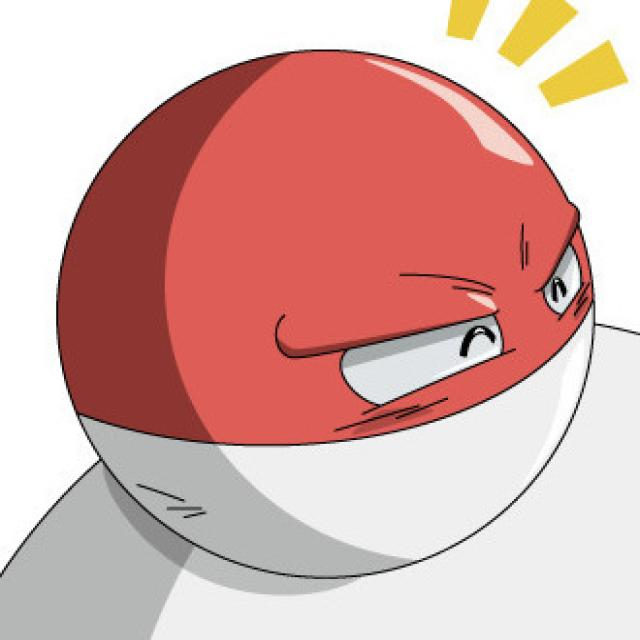Voltorb: (55, 46, 631, 581)
